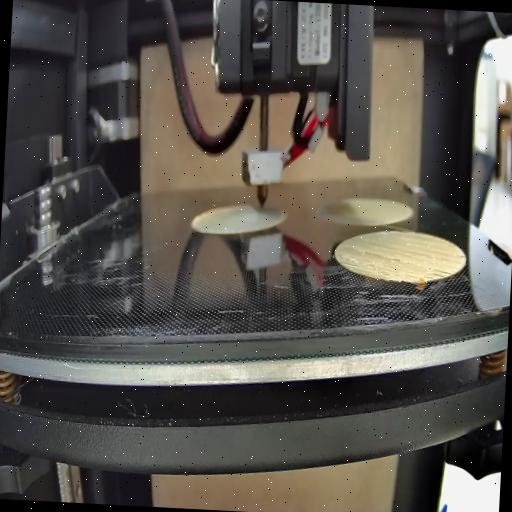under_extrusion: (361, 250, 403, 266), (422, 264, 453, 284), (338, 258, 360, 272), (402, 272, 420, 286)
